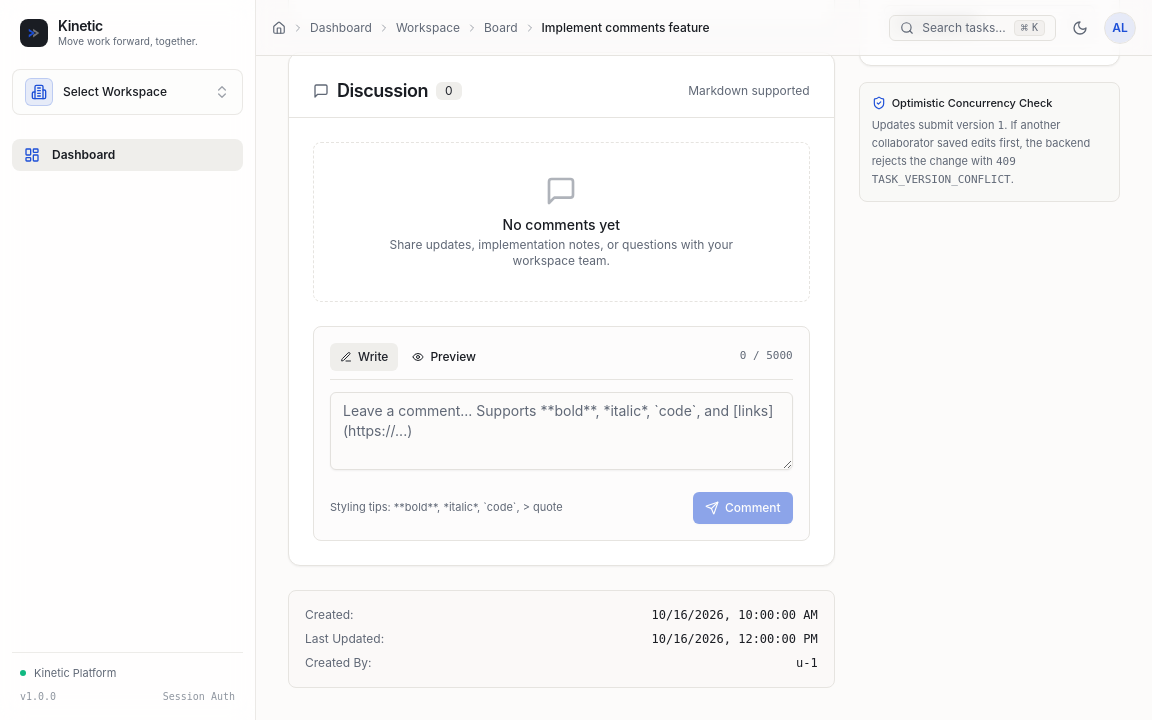
Scenario: Task Comments Flow › toggles between Write and Preview mode in composer
(page scrolled)
Expected: the text "No comments yet" is shown, x1=503 y1=214 x2=620 y2=234
Replace the text in the text box with placeholder "Leave a comment" with "Testing **preview mode** rendering" at {"x": 561, "y": 430}, box x1=330 y1=392 x2=793 y2=470
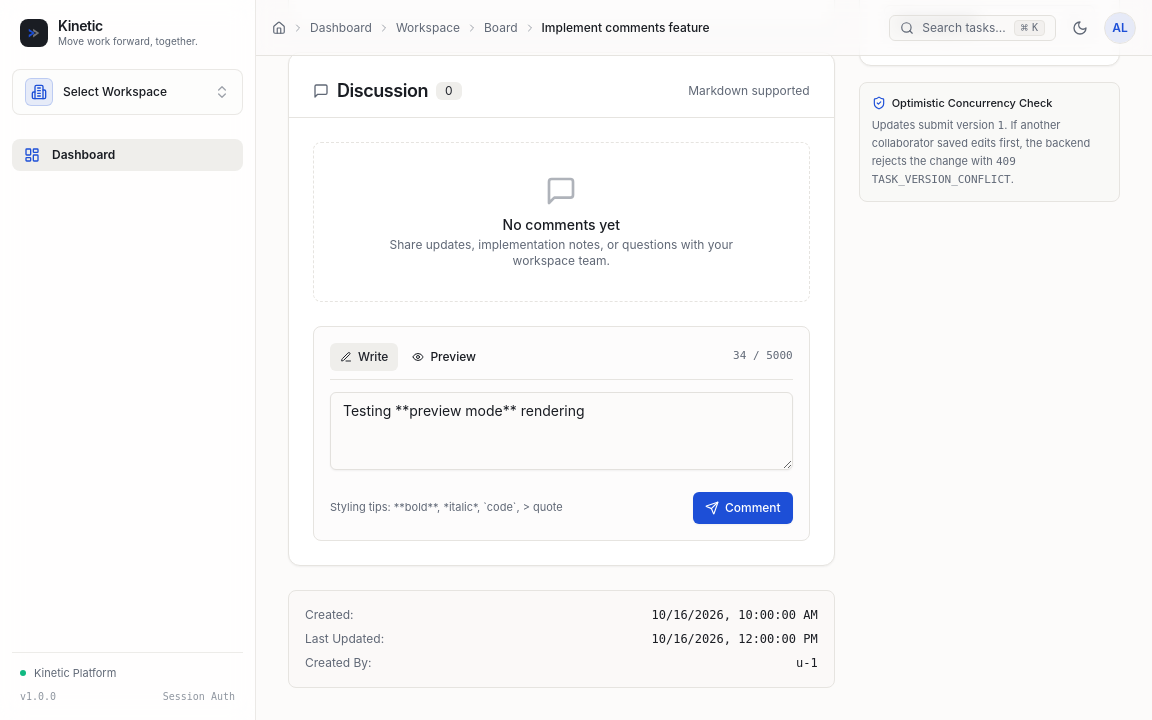
Click the button "Preview" at {"x": 444, "y": 356}, box x1=402 y1=342 x2=486 y2=370
(page scrolled)
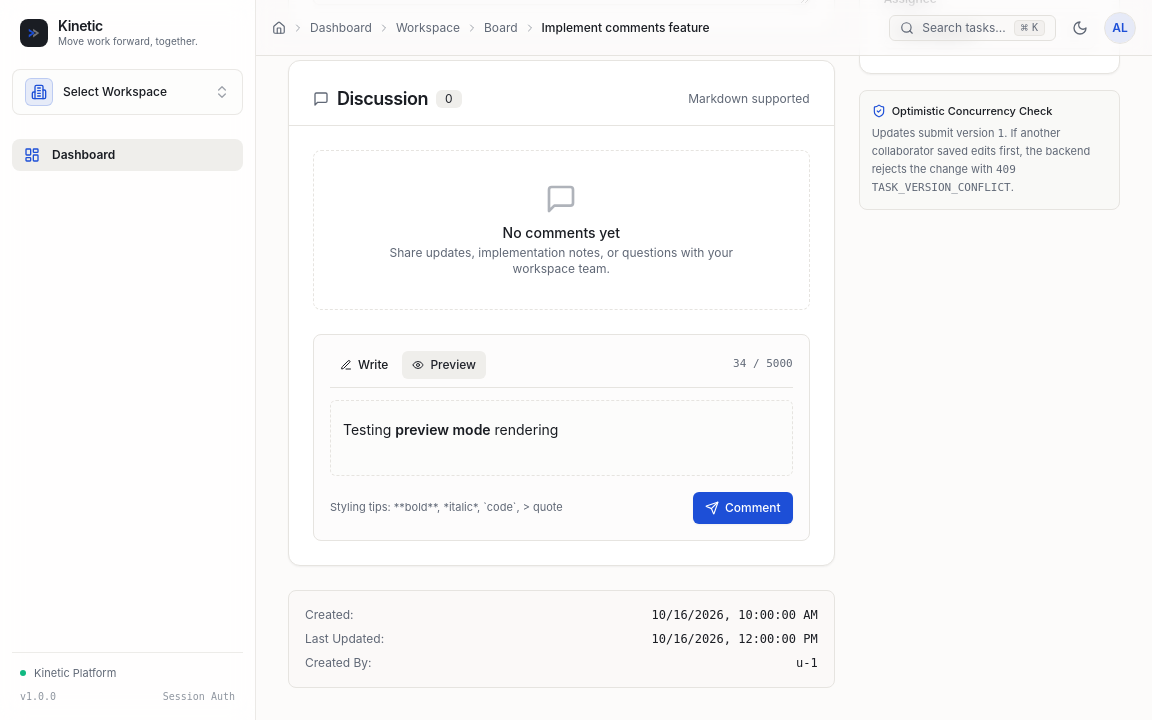
Now the text "preview mode" is shown, box x1=395 y1=420 x2=491 y2=438
Click the button "Write" at {"x": 364, "y": 364}, box x1=330 y1=350 x2=398 y2=378
(page scrolled)
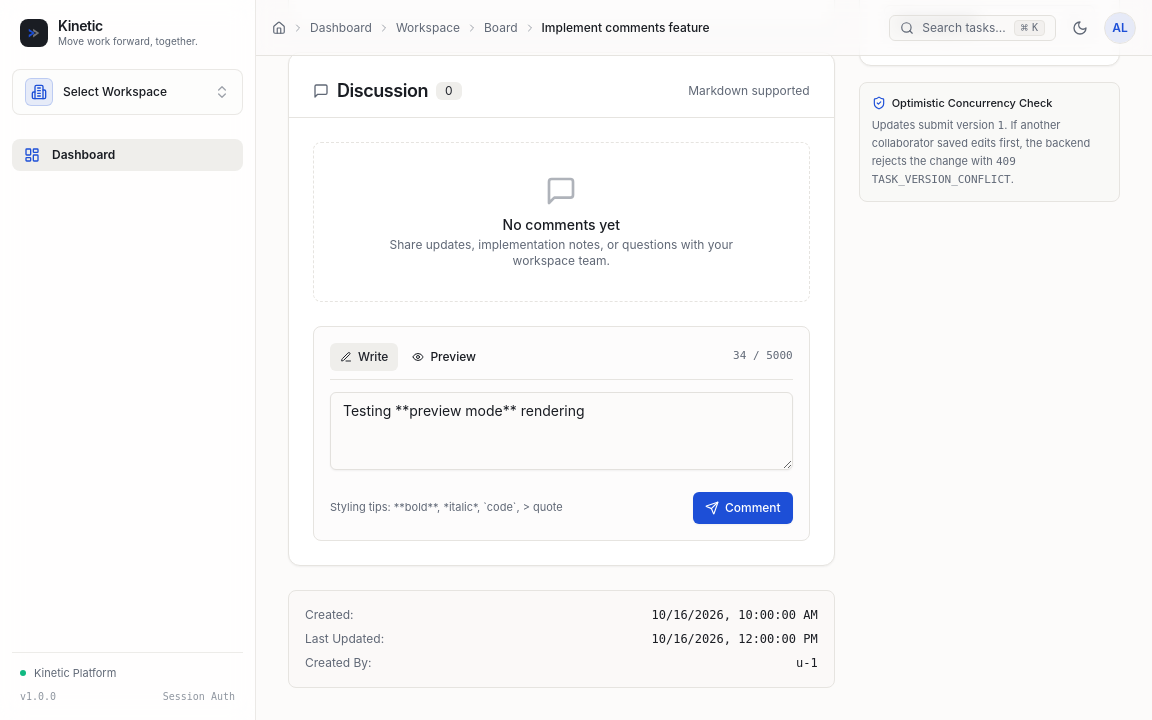
Now the text box with placeholder "Leave a comment" holds "Testing **preview mode** rendering", box x1=330 y1=392 x2=793 y2=470
